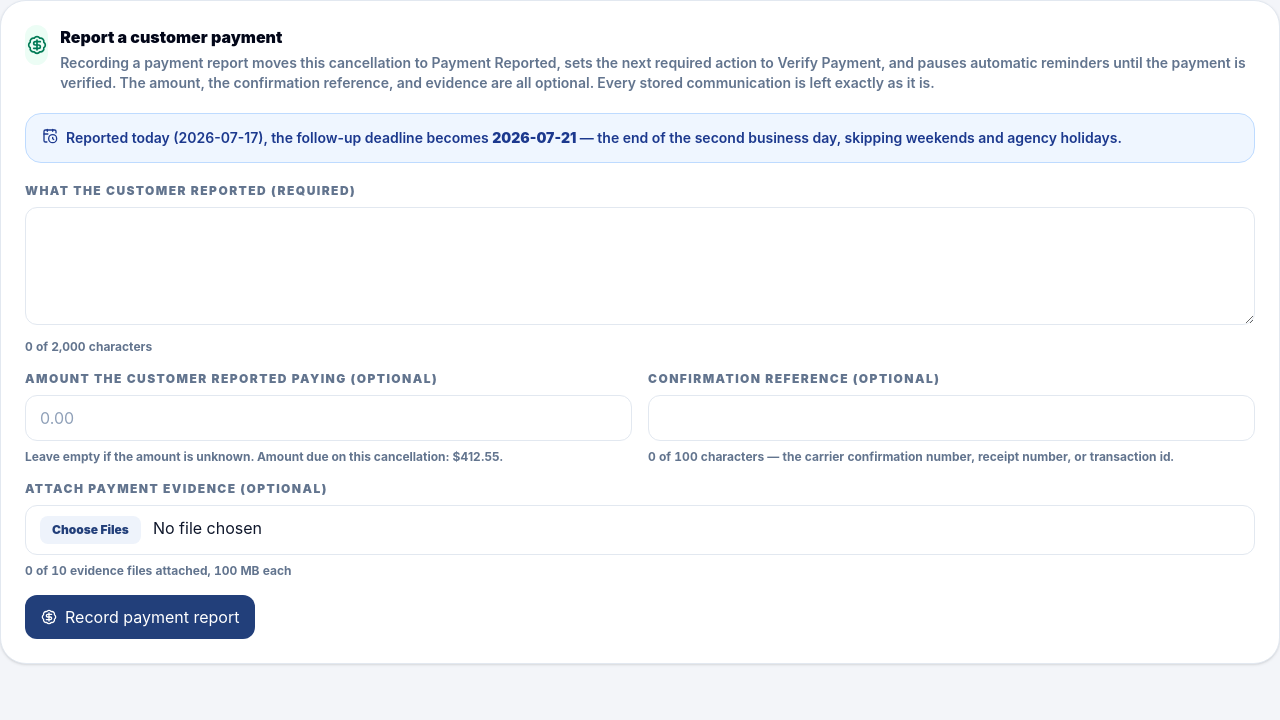
Test: CancellationPaymentReport › surfaces an upload failure from the write on the evidence field
Type "Receipt attached." into the text box labelled "What the customer reported (required)" at [640, 266], box [25,207,1255,325]
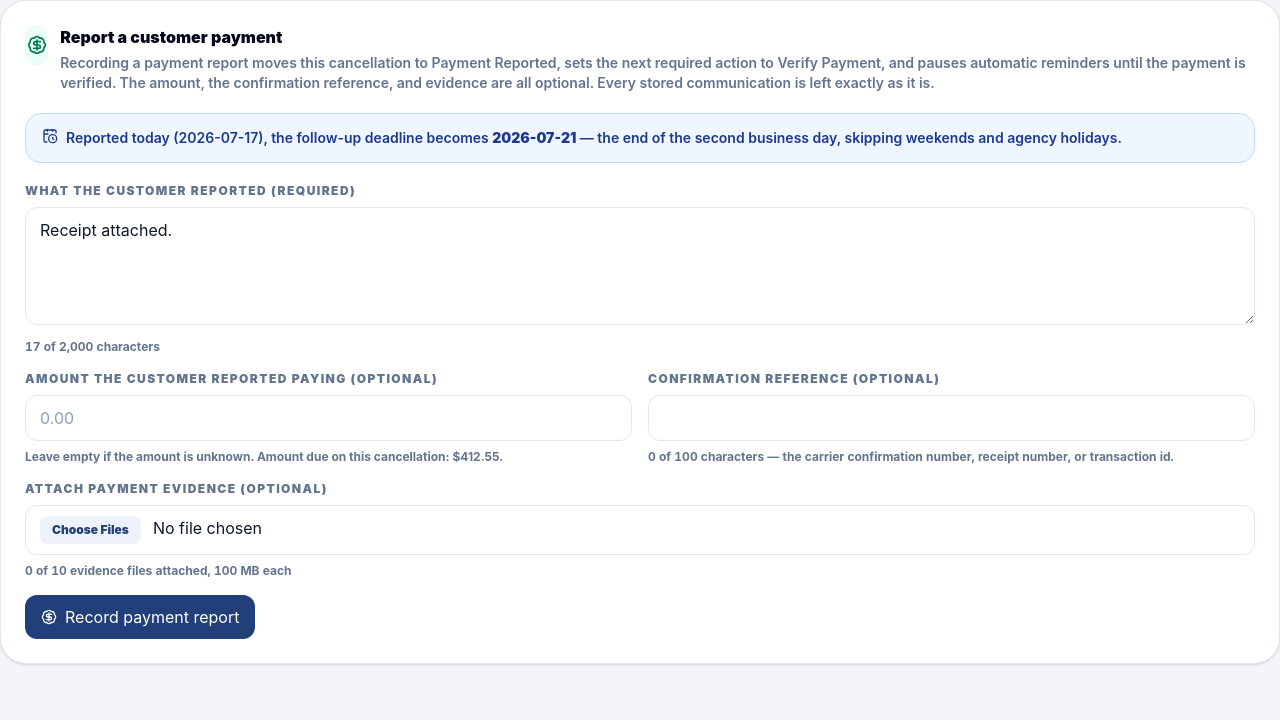
Click the button "Record payment report" at [140, 617], box [25,595,255,639]
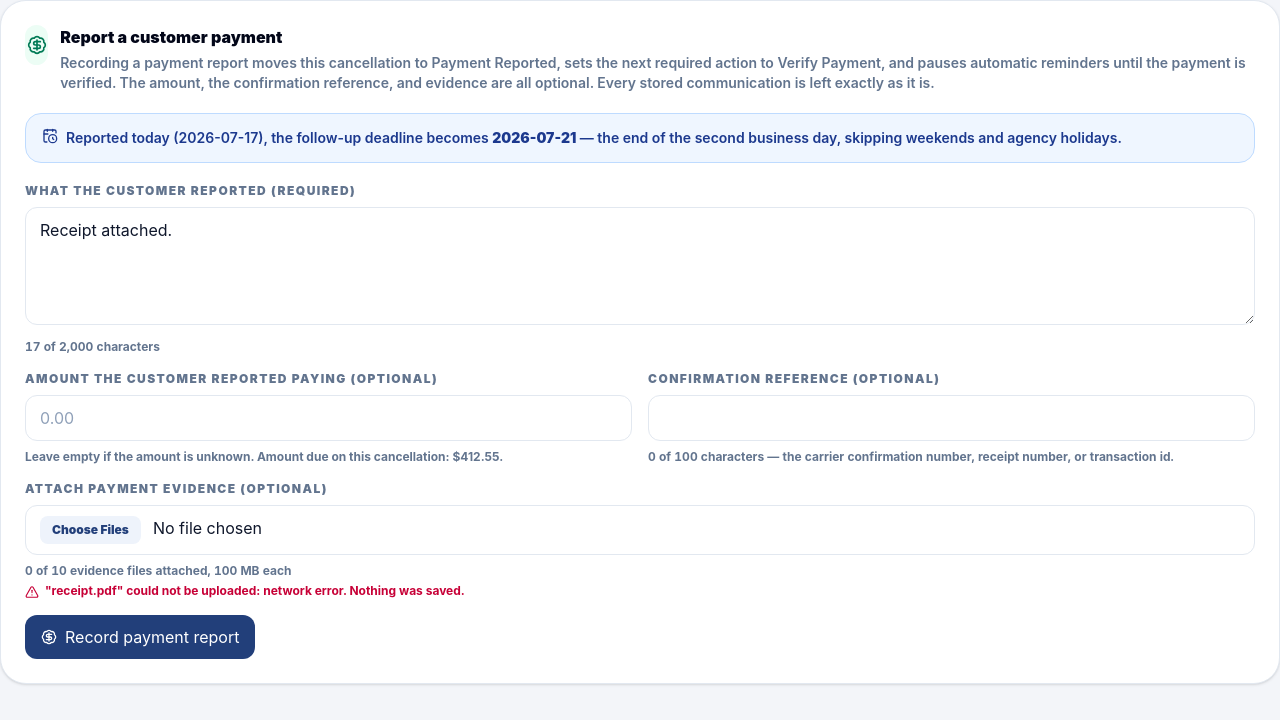
Expected: the message shows "could not be uploaded", [45,583,465,598]
